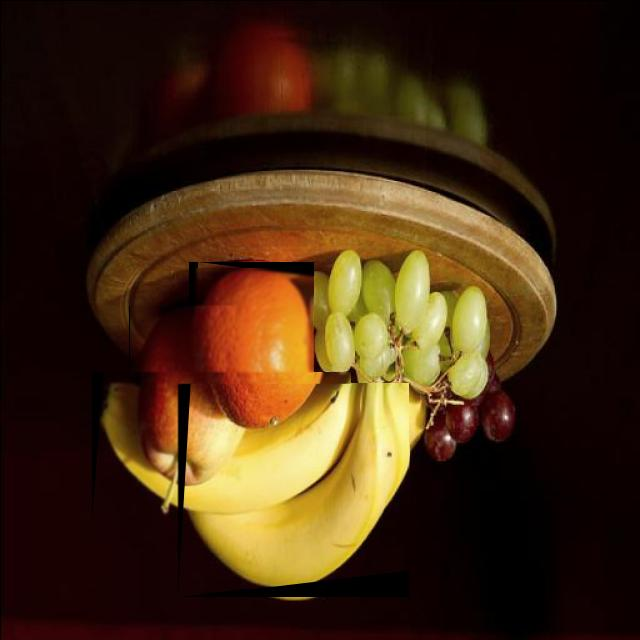Apple: (130, 305, 235, 510)
Banana: (182, 383, 409, 588), (99, 372, 351, 517)
Orange: (193, 267, 313, 437)
